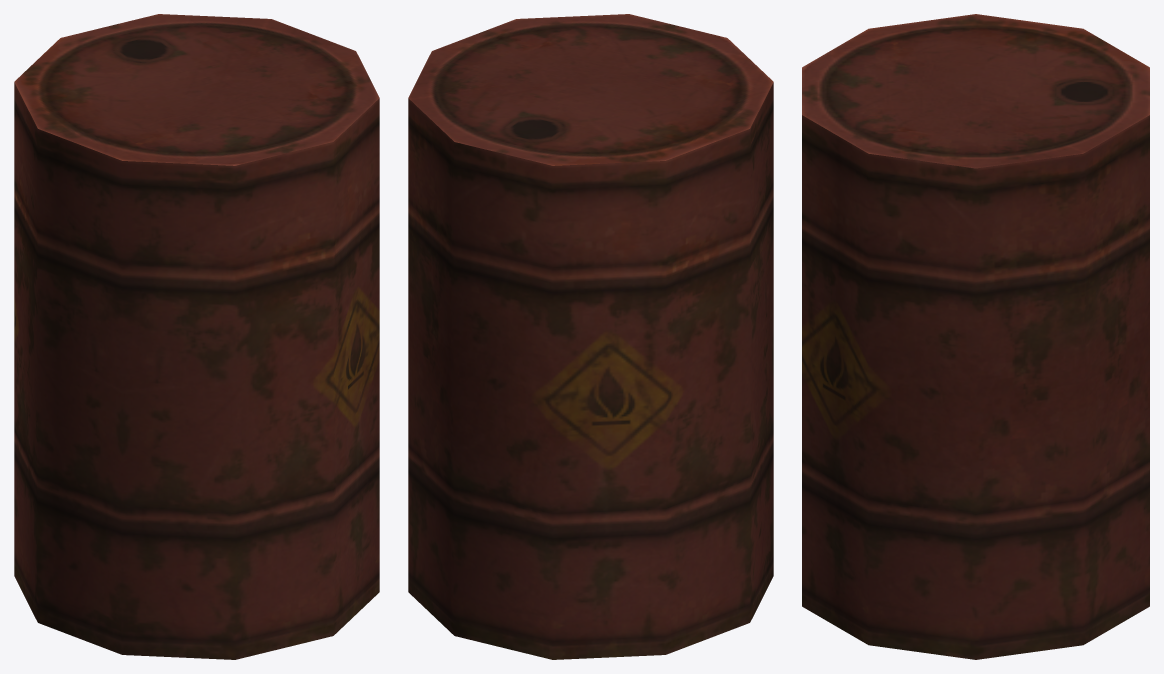
Rendered from hongyoutong.FBX.
The picture shows the model from 3 angles, left to right: view 1: azimuth 30°, elevation 25°; view 2: azimuth 150°, elevation 25°; view 3: azimuth 270°, elevation 25°; orthographic projection.
Parts seen in each view (by area): view 1: Cylinder001; view 2: Cylinder001; view 3: Cylinder001.
Boxes of the visible parts, x1,y1,x2,y2 form: Cylinder001: (14, 14, 379, 659); Cylinder001: (408, 14, 773, 659); Cylinder001: (802, 14, 1149, 659).
Bounding box in the file's own units: 0.7636 × 1.13 × 0.7262.
